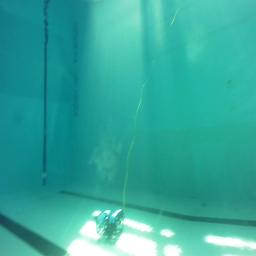front: (96, 208, 124, 237)
